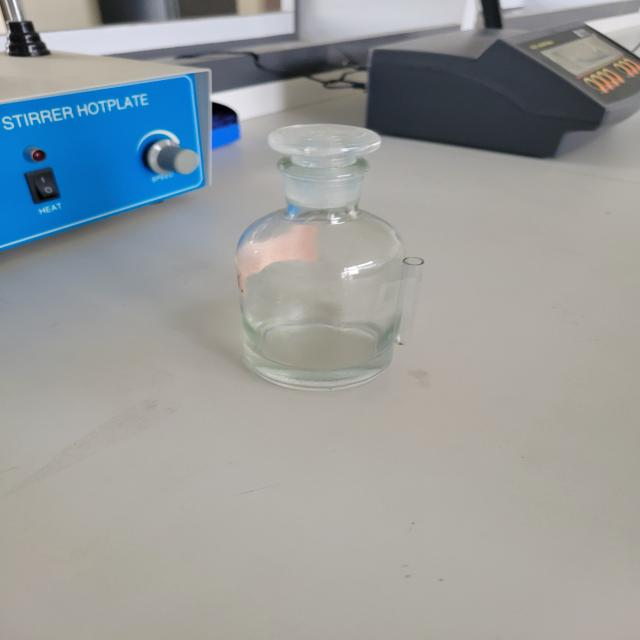Reagent_Bottle: (157, 73, 482, 407)
